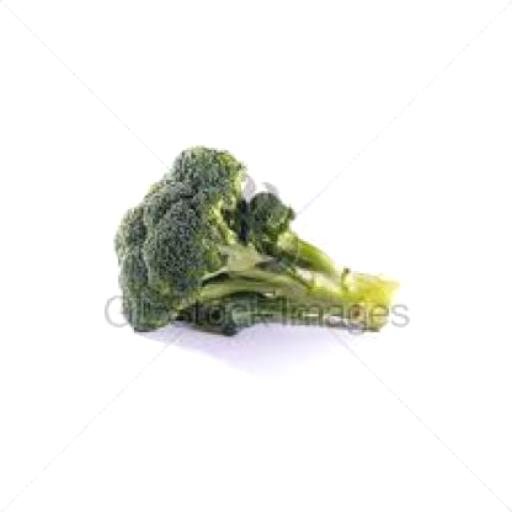biodegradable: (111, 144, 394, 336)
